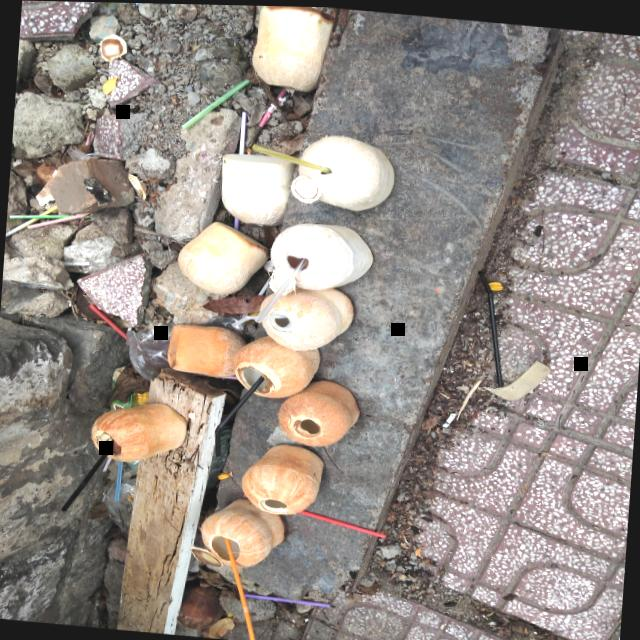Cigarette: (441, 411, 455, 424)
Other plastic bottle: (489, 279, 502, 287)
Plastic film: (125, 322, 174, 381), (104, 476, 137, 533), (108, 361, 149, 405), (206, 425, 232, 488), (191, 313, 245, 333), (66, 148, 98, 160), (127, 460, 139, 472)
Plastic straw: (214, 374, 264, 455), (61, 439, 114, 511), (181, 77, 250, 128), (254, 257, 308, 321), (224, 536, 255, 639), (478, 268, 502, 384), (297, 509, 385, 536), (252, 143, 331, 171), (5, 205, 57, 237), (88, 303, 126, 339), (258, 86, 287, 126), (26, 211, 93, 228), (244, 592, 329, 605), (231, 314, 286, 326), (114, 460, 123, 501), (239, 110, 246, 152), (196, 372, 237, 378), (258, 274, 270, 293), (10, 215, 73, 218), (102, 457, 111, 471), (62, 261, 92, 265), (84, 132, 93, 145), (234, 216, 238, 228), (80, 214, 90, 217)
Unlabeled litter: (481, 357, 550, 397)
